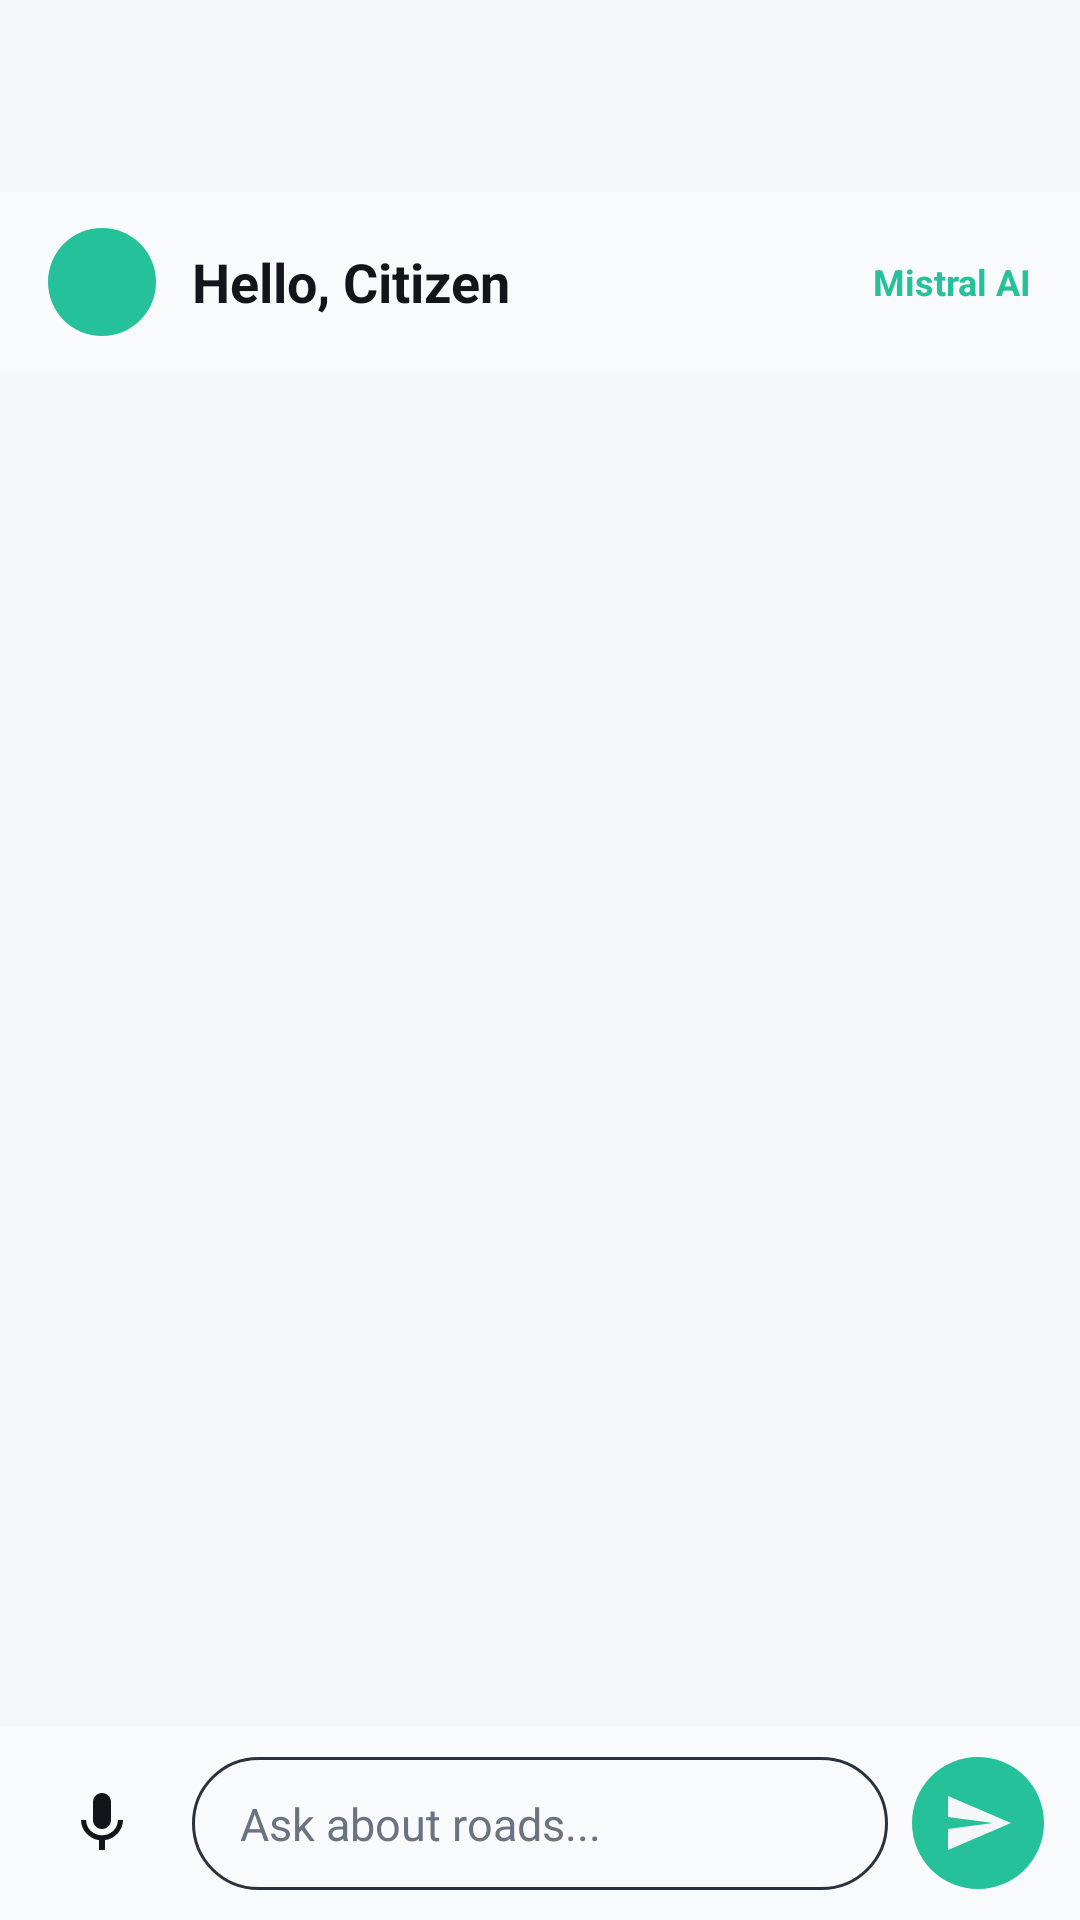

Where to tap for icons on this 1080 x 1920 app screen, as [x,y]:
Send message: [978,1823]
Voice input: [102,1821]
